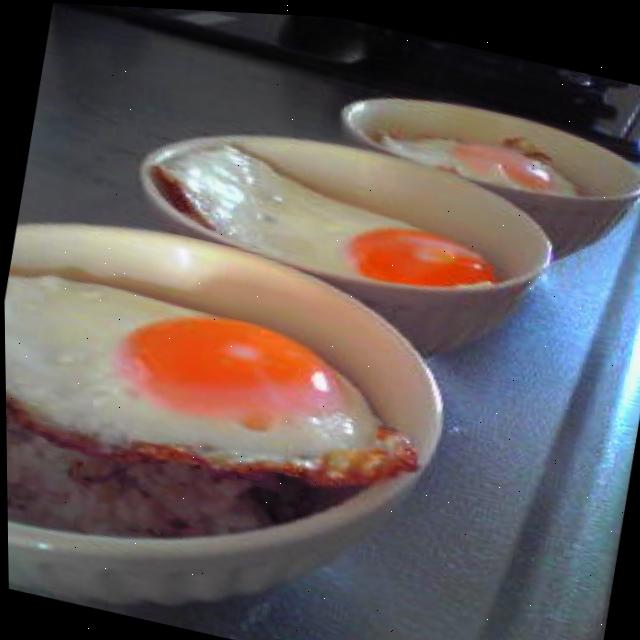鸡蛋料理: (9, 246, 410, 522)
